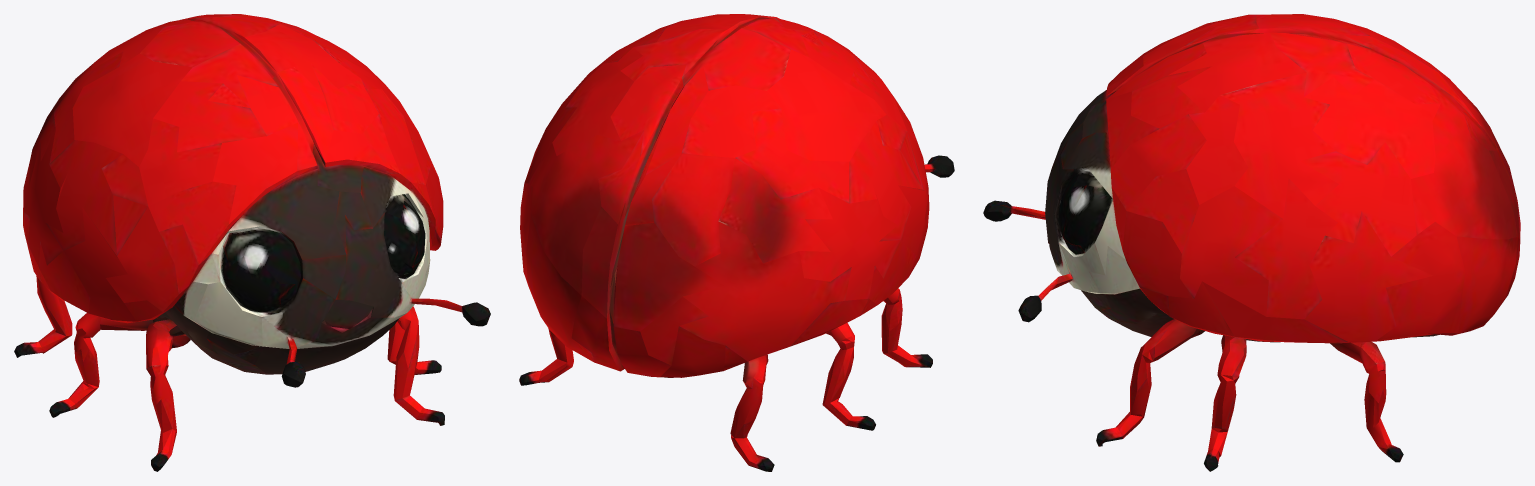
File: bug_kaefer.glb
3 views of the same model, side by side, from view 1: azimuth 30°, elevation 25°; view 2: azimuth 150°, elevation 25°; view 3: azimuth 270°, elevation 25° (orthographic). The views are drawn at different scales.
Size of the model in its own units: 1.45 by 1.4 by 1.9.
1 material, 1 textured.
